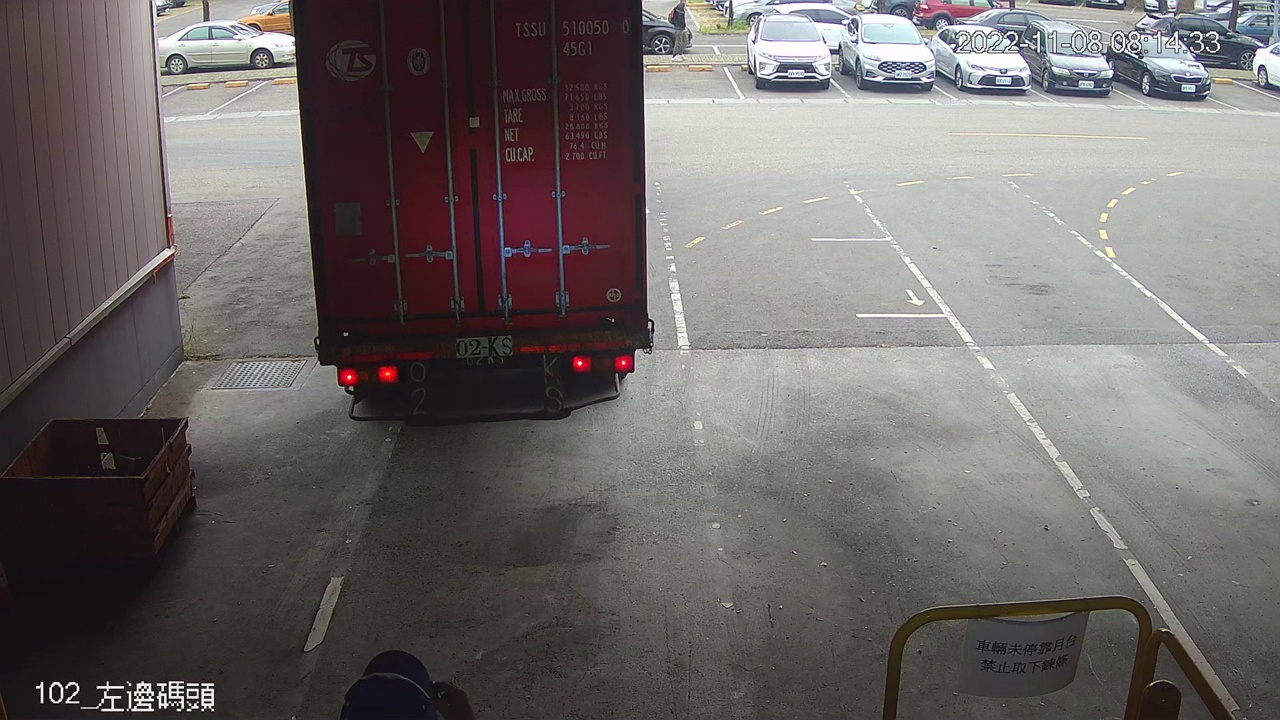container: (509, 12, 635, 62)
